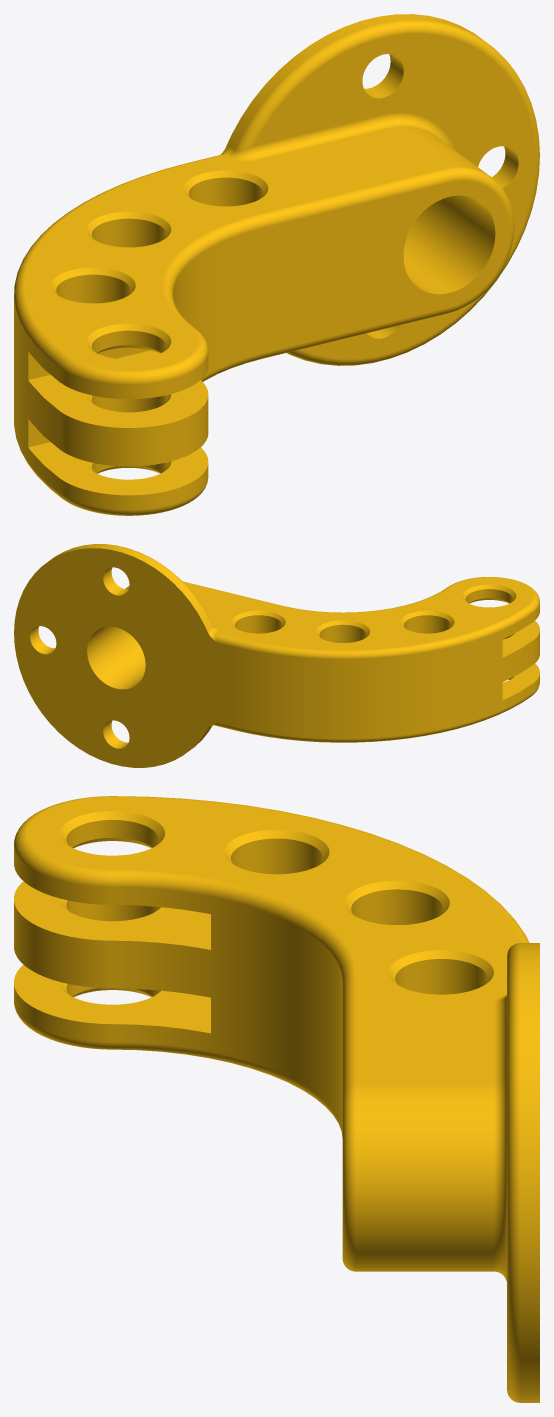
Rendered from Braço Oscilante Angular (12).glb.
The picture shows the model from 3 angles, top to bottom: view 1: azimuth 30°, elevation 25°; view 2: azimuth 150°, elevation 25°; view 3: azimuth 270°, elevation 25°; orthographic projection. The views are drawn at different scales.
Parts seen in each view (by area): view 1: Part 1; view 2: Part 1; view 3: Part 1.
Boxes of the visible parts, x1,y1,x2,y2 form: Part 1: (14, 14, 539, 515); Part 1: (14, 544, 539, 767); Part 1: (14, 796, 539, 1402).
Bounding box in the file's own units: 0.14 × 0.0699 × 0.08.
